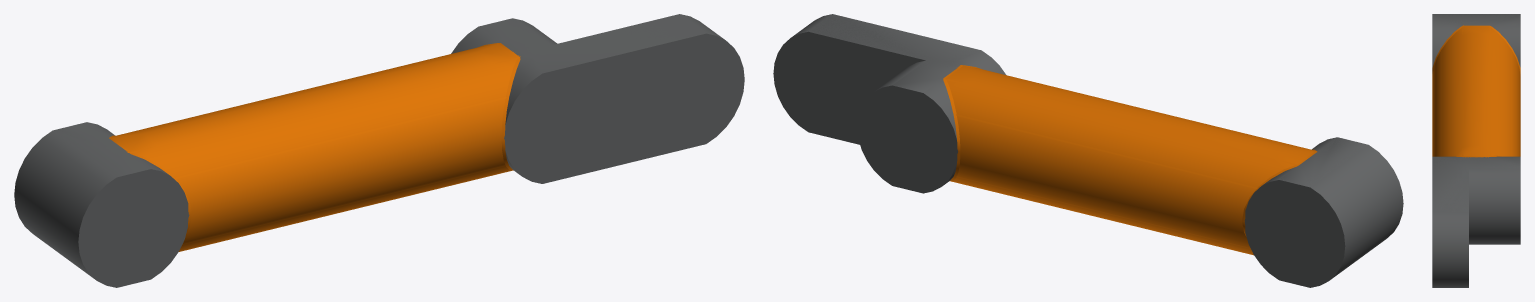
3 views of the same model, side by side, from view 1: azimuth 30°, elevation 25°; view 2: azimuth 150°, elevation 25°; view 3: azimuth 270°, elevation 25° (orthographic). The views are drawn at different scales.
Parts seen in each view (by area): view 1: c2_LOD0, c2_col; view 2: c2_LOD0, c2_col; view 3: c2_LOD0, c2_col.
Part boxes in pixels (x1,y1,x2,y2): c2_LOD0: (14,14,744,287); c2_col: (53,15,742,287); c2_LOD0: (773,14,1403,287); c2_col: (774,15,1365,287); c2_LOD0: (1432,14,1520,287); c2_col: (1432,14,1520,211).
Size of what is drawn, in the model's own units: 71.98 by 11.93 by 12.
